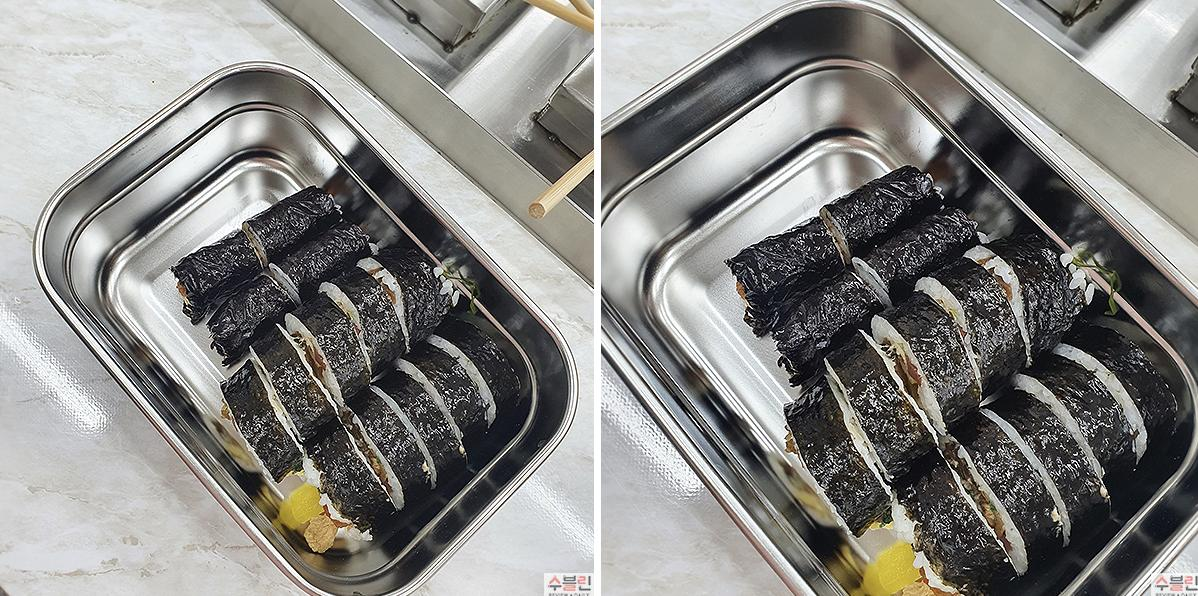Lunch Box: (600, 0, 1197, 595), (35, 63, 575, 595)
